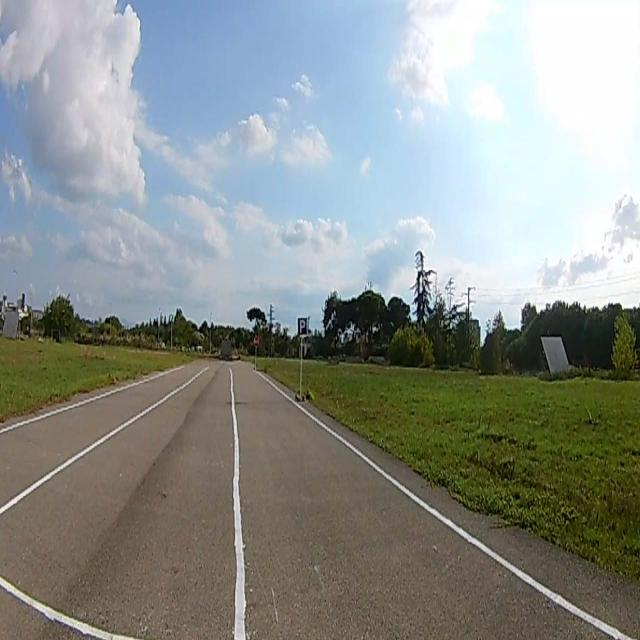park: (298, 316, 308, 336)
